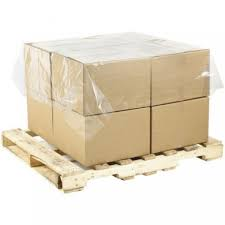box: (82, 104, 151, 165), (83, 58, 150, 115), (149, 47, 211, 107), (150, 95, 209, 155), (51, 100, 84, 168), (50, 53, 83, 116), (22, 42, 51, 101), (25, 89, 52, 143)
pallet: (1, 125, 225, 195)
